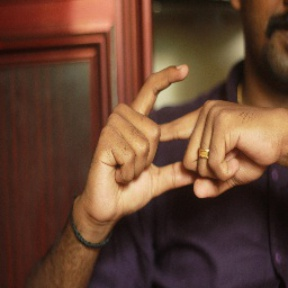E: (121, 66, 235, 198)
